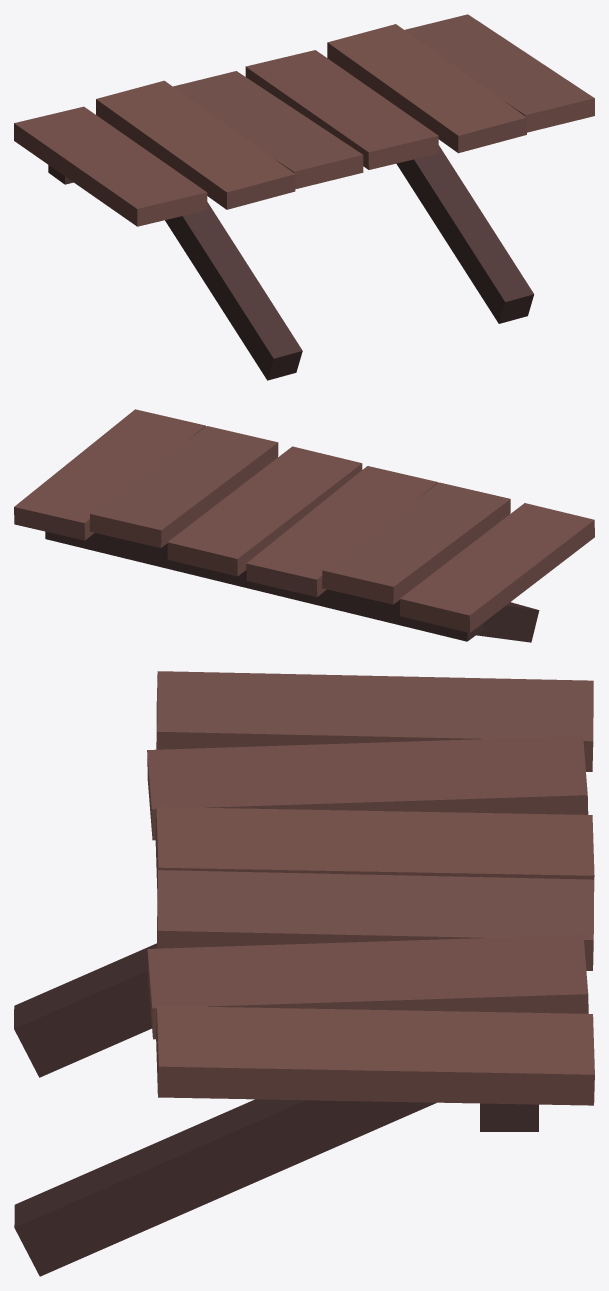
Rendered from LightRoseWoodFloorMediumPlatform1.fbx.
3 views of the same model, one above another, from view 1: azimuth 30°, elevation 25°; view 2: azimuth 150°, elevation 25°; view 3: azimuth 270°, elevation 25° (orthographic). The views are drawn at different scales.
Visible parts, largest first — view 1: LightRoseWoodFloorMediumPlatform1; view 2: LightRoseWoodFloorMediumPlatform1; view 3: LightRoseWoodFloorMediumPlatform1.
Part boxes in pixels (left/top/right/bottom): LightRoseWoodFloorMediumPlatform1: left=14, top=14, right=594, bottom=380; LightRoseWoodFloorMediumPlatform1: left=14, top=409, right=594, bottom=642; LightRoseWoodFloorMediumPlatform1: left=14, top=671, right=594, bottom=1276.
Bounding box in the file's own units: 577 × 208 × 360.
